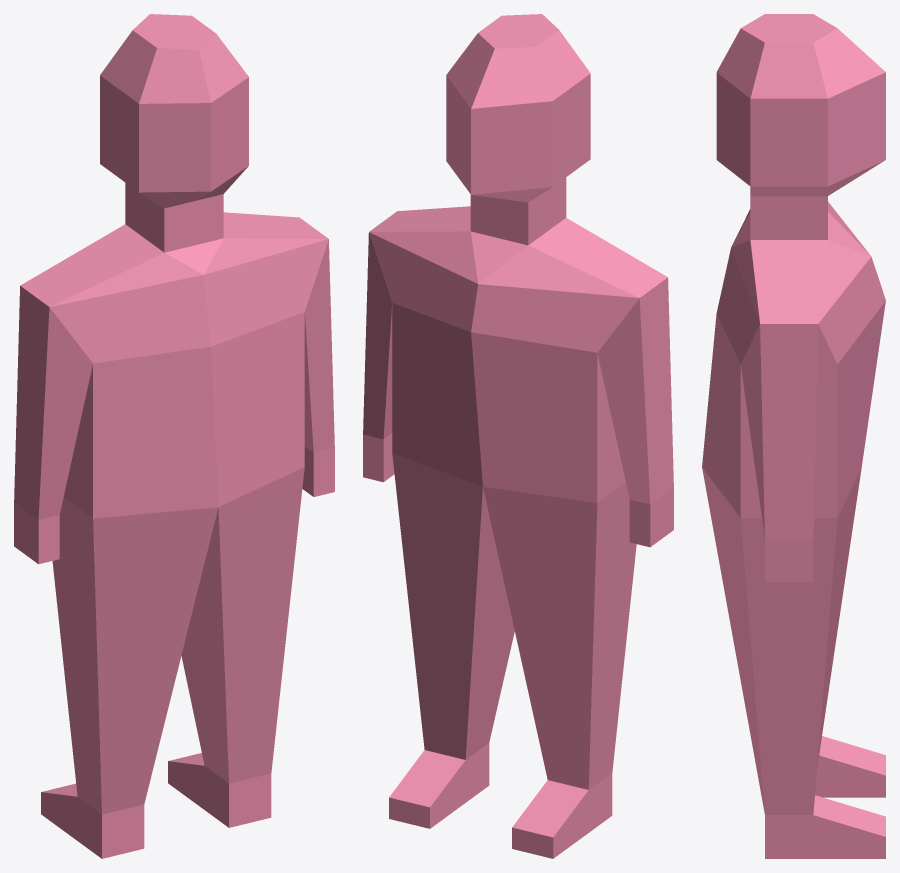
File: mob.glb
3 renders of one model, left to right at view 1: azimuth 30°, elevation 25°; view 2: azimuth 150°, elevation 25°; view 3: azimuth 270°, elevation 25°, orthographic. The views are drawn at different scales.
Visible parts, largest first — view 1: Cube.018; view 2: Cube.018; view 3: Cube.018.
Part boxes in pixels (<box>): Cube.018: <box>14,14,334,858</box>; Cube.018: <box>363,14,673,858</box>; Cube.018: <box>702,14,885,858</box>.
Bounding box in the file's own units: 0.7 × 1.8 × 0.38.
